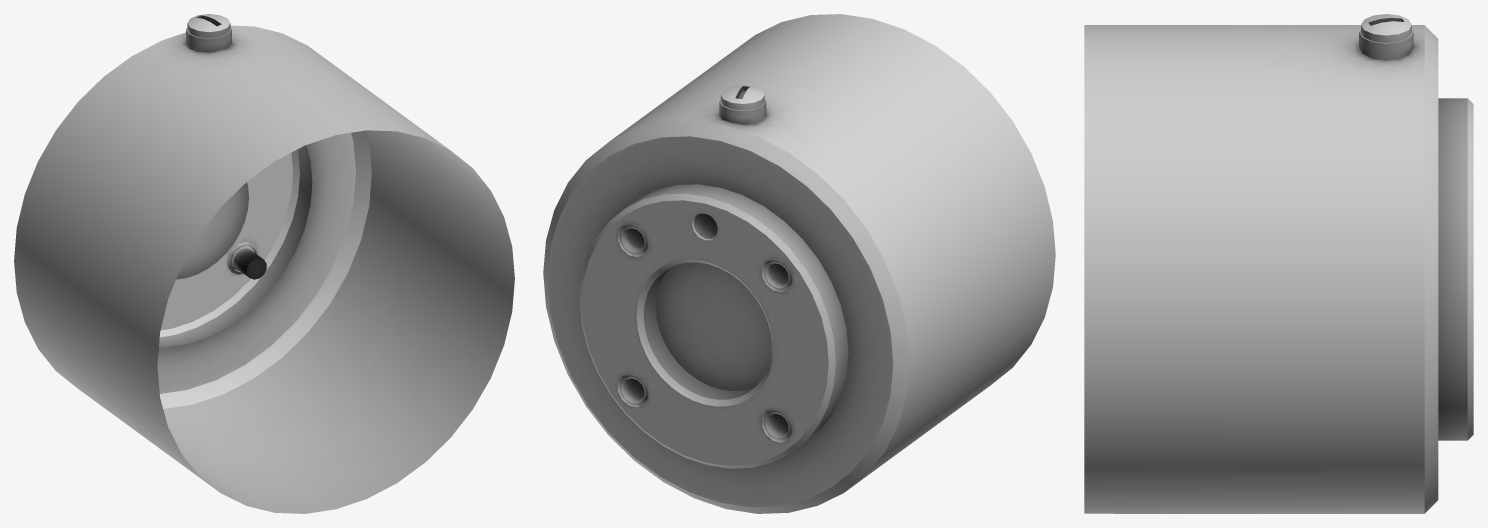
File: wrist3.dae
3 views of the same model, side by side, from view 1: azimuth 30°, elevation 25°; view 2: azimuth 150°, elevation 25°; view 3: azimuth 270°, elevation 25° (orthographic). The views are drawn at different scales.
Visible parts, largest first — view 1: wrist-3_001; view 2: wrist-3_001; view 3: wrist-3_001.
Boxes of the visible parts, x1,y1,x2,y2 form: wrist-3_001: (14, 14, 514, 513); wrist-3_001: (543, 14, 1055, 513); wrist-3_001: (1084, 14, 1473, 513).
Size of the model in its own units: 0.09 by 0.0714 by 0.0954.
Materials: 1 (1 with a texture image).
